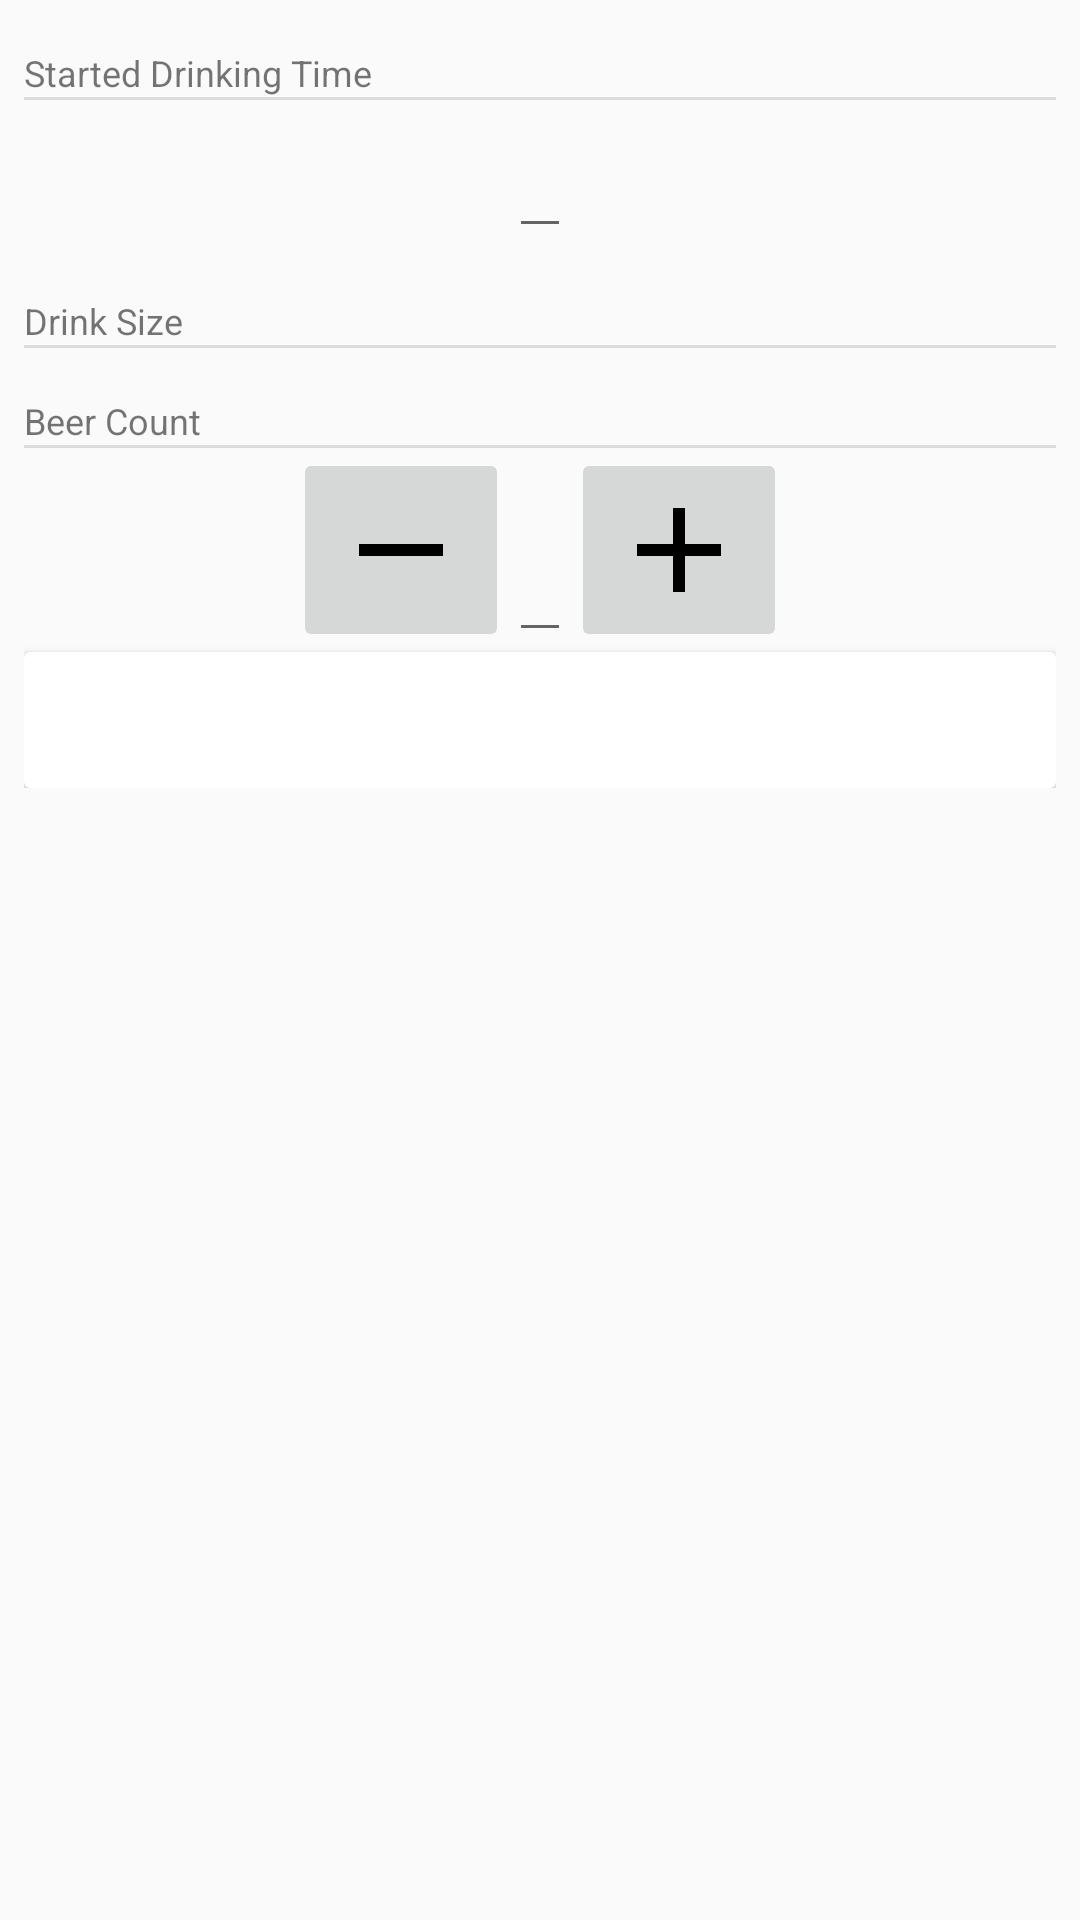

Screen size 1080px×1920px. Icon name, then its center in pixels as (x,y):
Increment beer count: (679,550)
